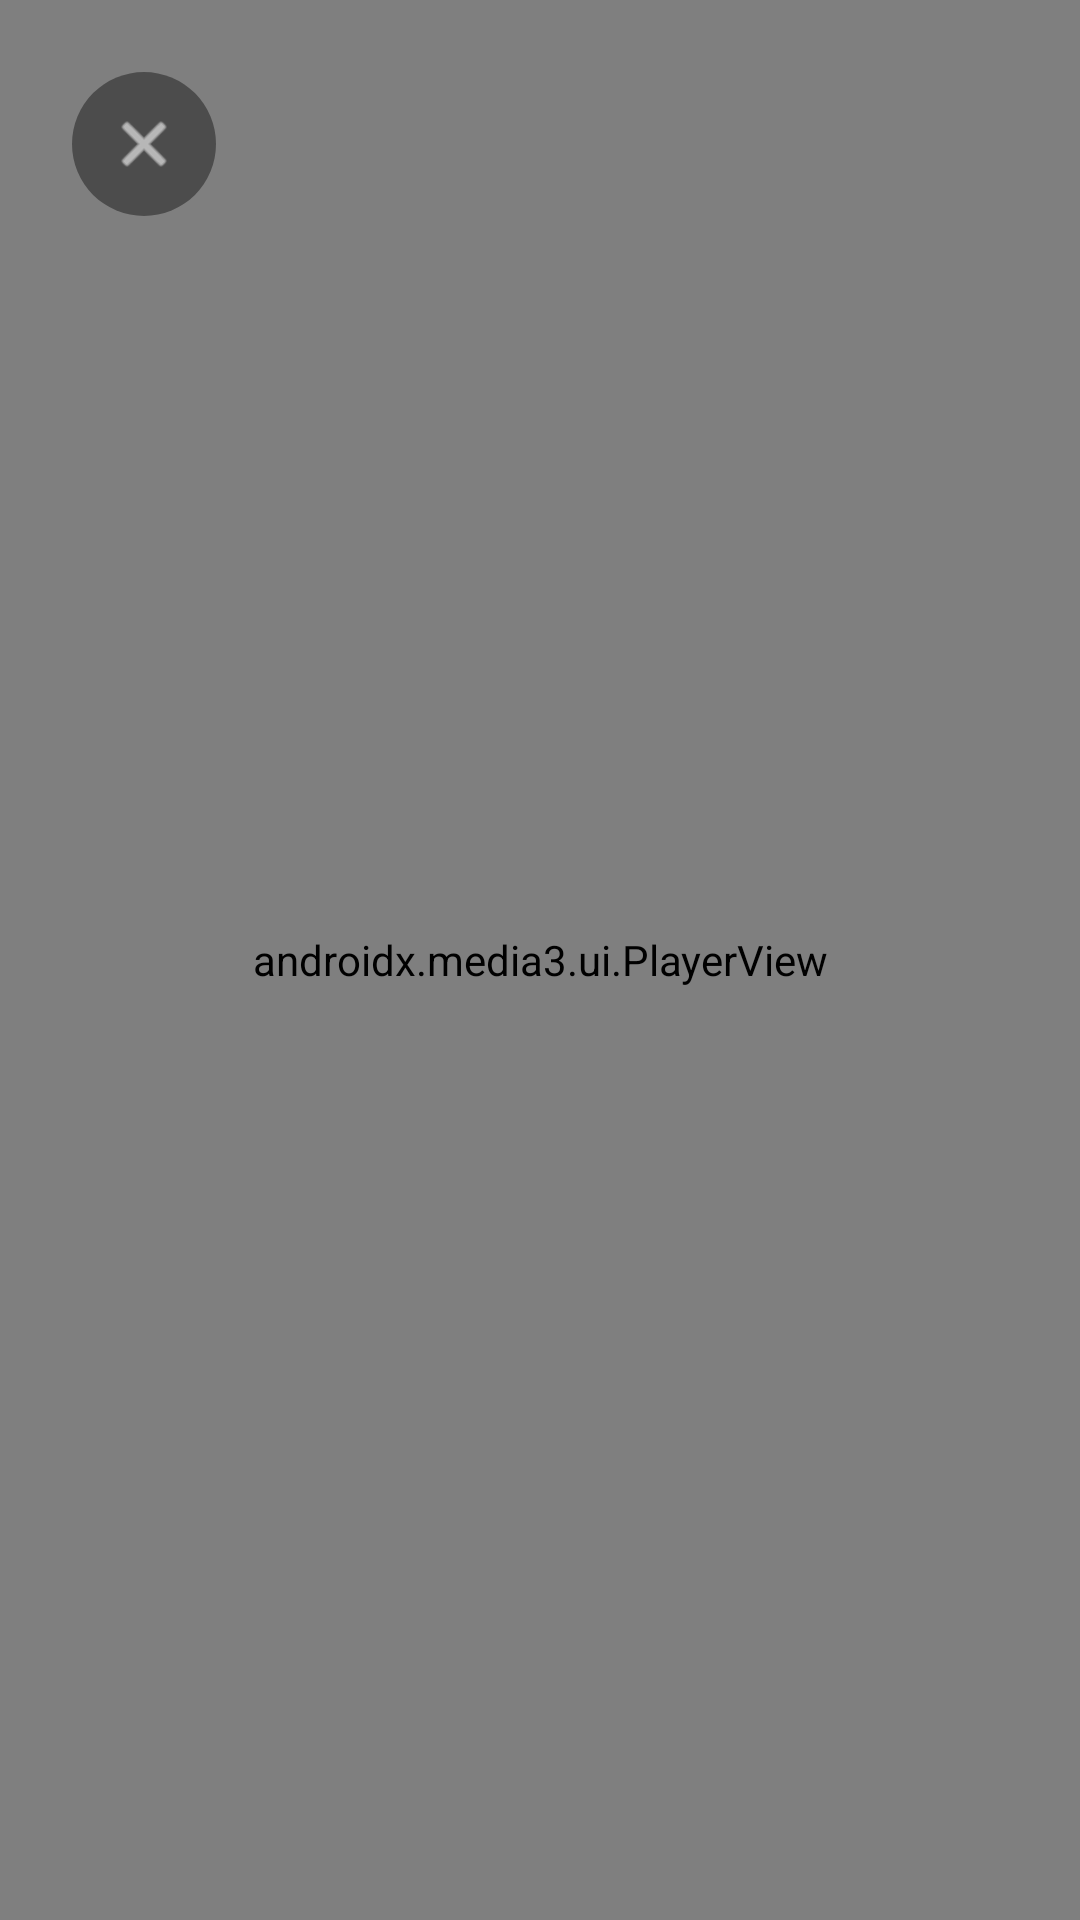

Icon bounding boxes for this 1080px x 1920px phone screenshot, format (x1, y1, x2, y2):
Close: (72, 72, 216, 216)
